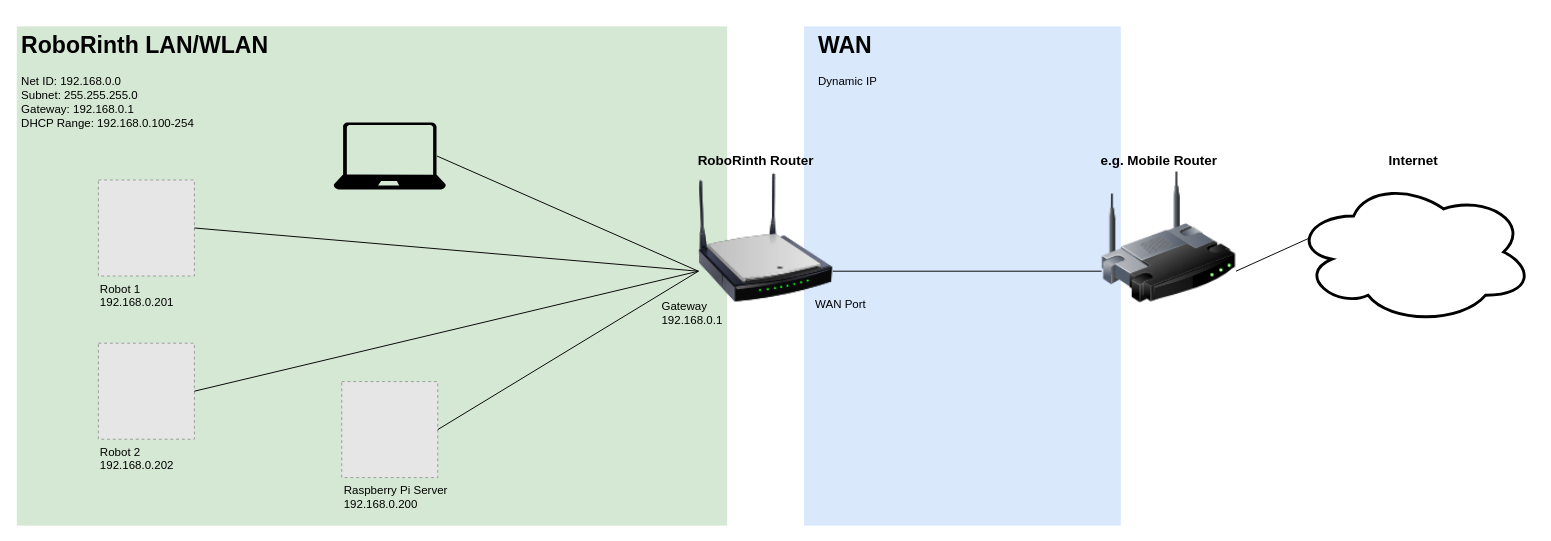
Some shapes in this 1551 by 541 pixel diagram are drawn without their labels. Grey dashed boxes stand in for pictures. Each missing label, with the centre of its shape:
Client DHCP: (389,155)
Gateway: (1168,237)
